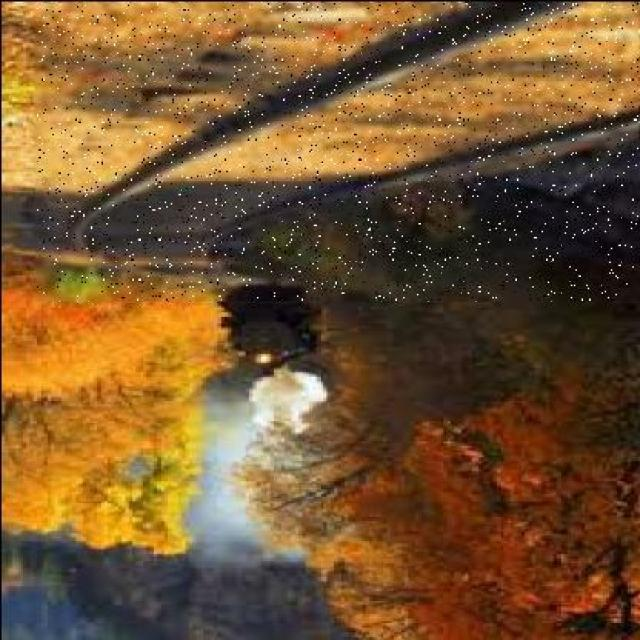rail: (35, 2, 636, 299)
